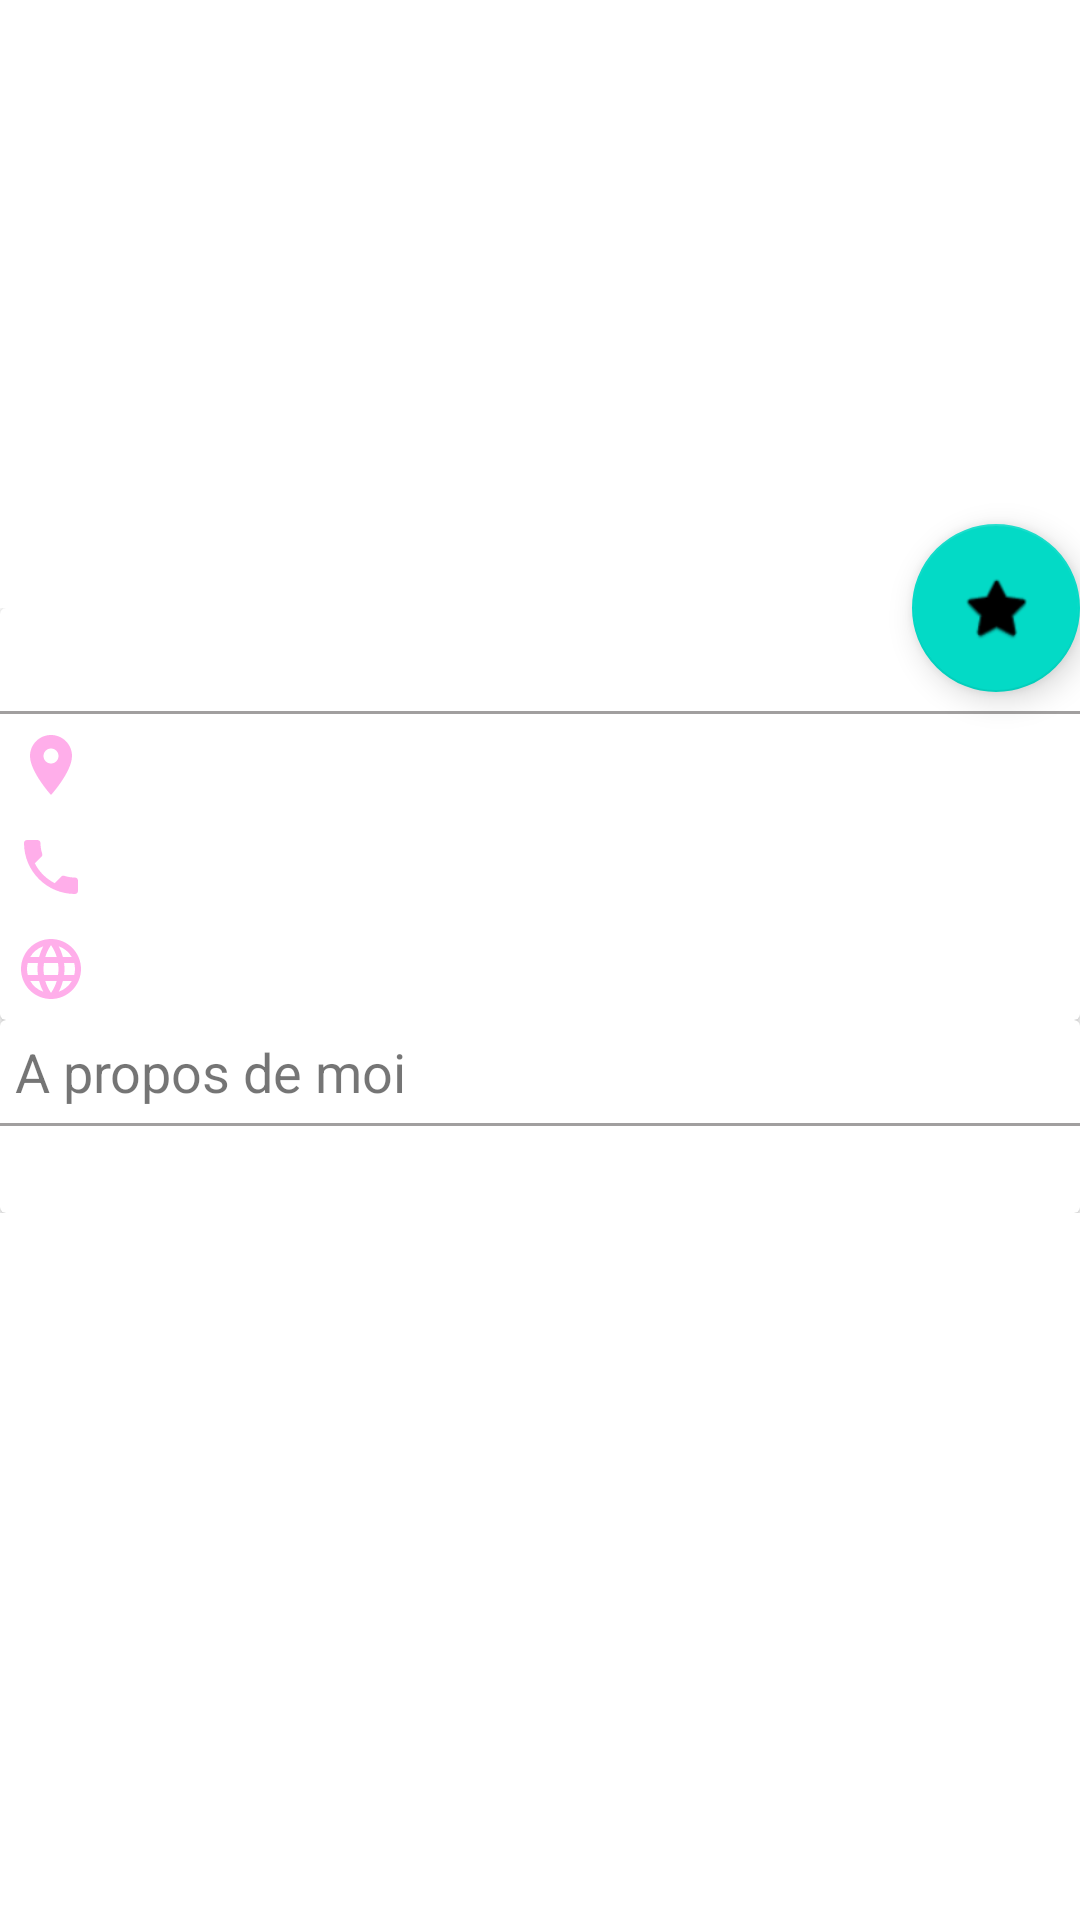

Point at icon controls on the screen. Image size 1080 x 1920, points as (x=x, y=y).
star on: (x=996, y=608)
